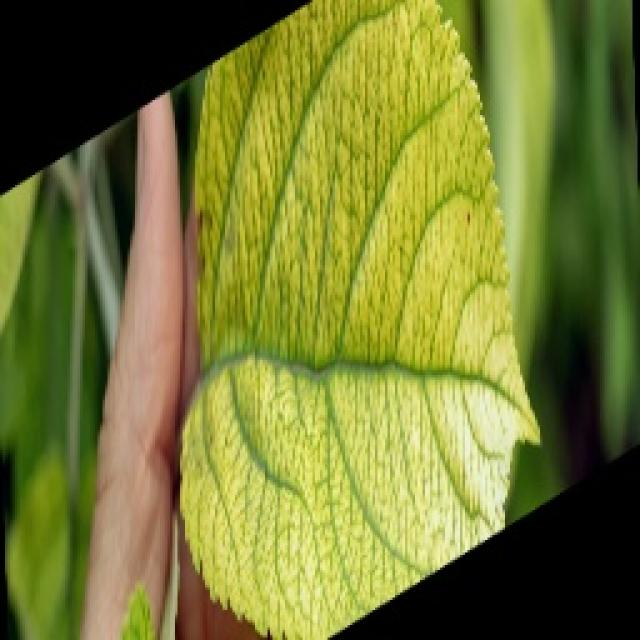Chlorosis: (103, 11, 590, 599)
